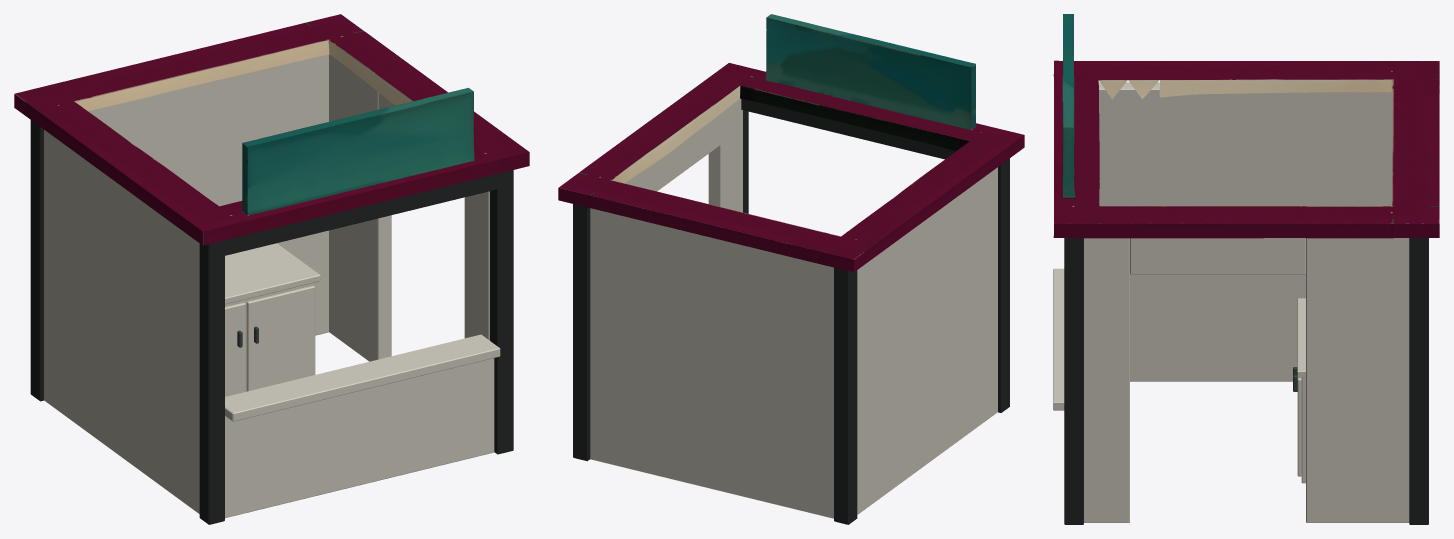
Rendered from box-office.glb.
3 views of the same model, side by side, from view 1: azimuth 30°, elevation 25°; view 2: azimuth 150°, elevation 25°; view 3: azimuth 270°, elevation 25° (orthographic). The views are drawn at different scales.
Visible parts, largest first — view 1: Mesh_0, GEO-left booth wall, GEO-front service wall, GEO-back booth wall, GEO-door rear pier, GEO-service counter, GEO-booth post, GEO-cabinet door.001, GEO-booth post.002, GEO-service header, GEO-booth post.001, GEO-ticket cabinet top (+2 smaller); view 2: GEO-back booth wall, Mesh_0, GEO-left booth wall, GEO-booth post.001, GEO-booth post.003, GEO-door front pier, GEO-booth post, GEO-service header, GEO-door lintel, GEO-booth post.002; view 3: GEO-left booth wall, Mesh_0, GEO-door rear pier, GEO-door front pier, GEO-door lintel, GEO-booth post.003, GEO-booth post.002, GEO-service counter, GEO-ticket cabinet top, GEO-ticket cabinet case, GEO-cabinet door.001.
Boxes of the visible parts, <box> form: Mesh_0: <box>14,14,529,245</box>; GEO-left booth wall: <box>44,130,199,513</box>; GEO-front service wall: <box>225,358,494,517</box>; GEO-back booth wall: <box>88,54,328,335</box>; GEO-door rear pier: <box>329,54,391,361</box>; GEO-service counter: <box>225,334,500,421</box>; GEO-booth post: <box>199,240,224,524</box>; GEO-cabinet door.001: <box>246,285,315,391</box>; GEO-booth post.002: <box>490,170,513,454</box>; GEO-service header: <box>199,170,513,258</box>; GEO-booth post.001: <box>30,120,43,401</box>; GEO-ticket cabinet top: <box>225,243,320,304</box>; GEO-back booth wall: <box>590,208,833,518</box>; Mesh_0: <box>558,14,1024,272</box>; GEO-left booth wall: <box>857,167,997,514</box>; GEO-booth post.001: <box>834,267,857,524</box>; GEO-booth post.003: <box>573,204,590,461</box>; GEO-door front pier: <box>708,98,742,212</box>; GEO-booth post: <box>998,158,1009,412</box>; GEO-service header: <box>741,99,1009,172</box>; GEO-door lintel: <box>642,114,720,191</box>; GEO-booth post.002: <box>743,110,748,213</box>; GEO-left booth wall: <box>1098,82,1392,381</box>; Mesh_0: <box>1053,14,1439,238</box>; GEO-door rear pier: <box>1306,238,1409,522</box>; GEO-door front pier: <box>1084,238,1129,522</box>; GEO-door lintel: <box>1130,238,1305,274</box>; GEO-booth post.003: <box>1409,238,1428,524</box>; GEO-booth post.002: <box>1064,238,1083,524</box>; GEO-service counter: <box>1053,268,1064,410</box>; GEO-ticket cabinet top: <box>1297,298,1305,377</box>; GEO-ticket cabinet case: <box>1301,377,1305,483</box>; GEO-cabinet door.001: <box>1297,377,1301,476</box>.
Bounding box in the file's own units: 1.76 × 1.9 × 1.76.
4 materials, 1 textured.
